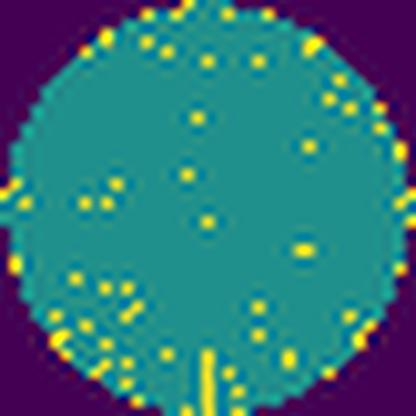Scratch: (196, 346, 219, 416)
